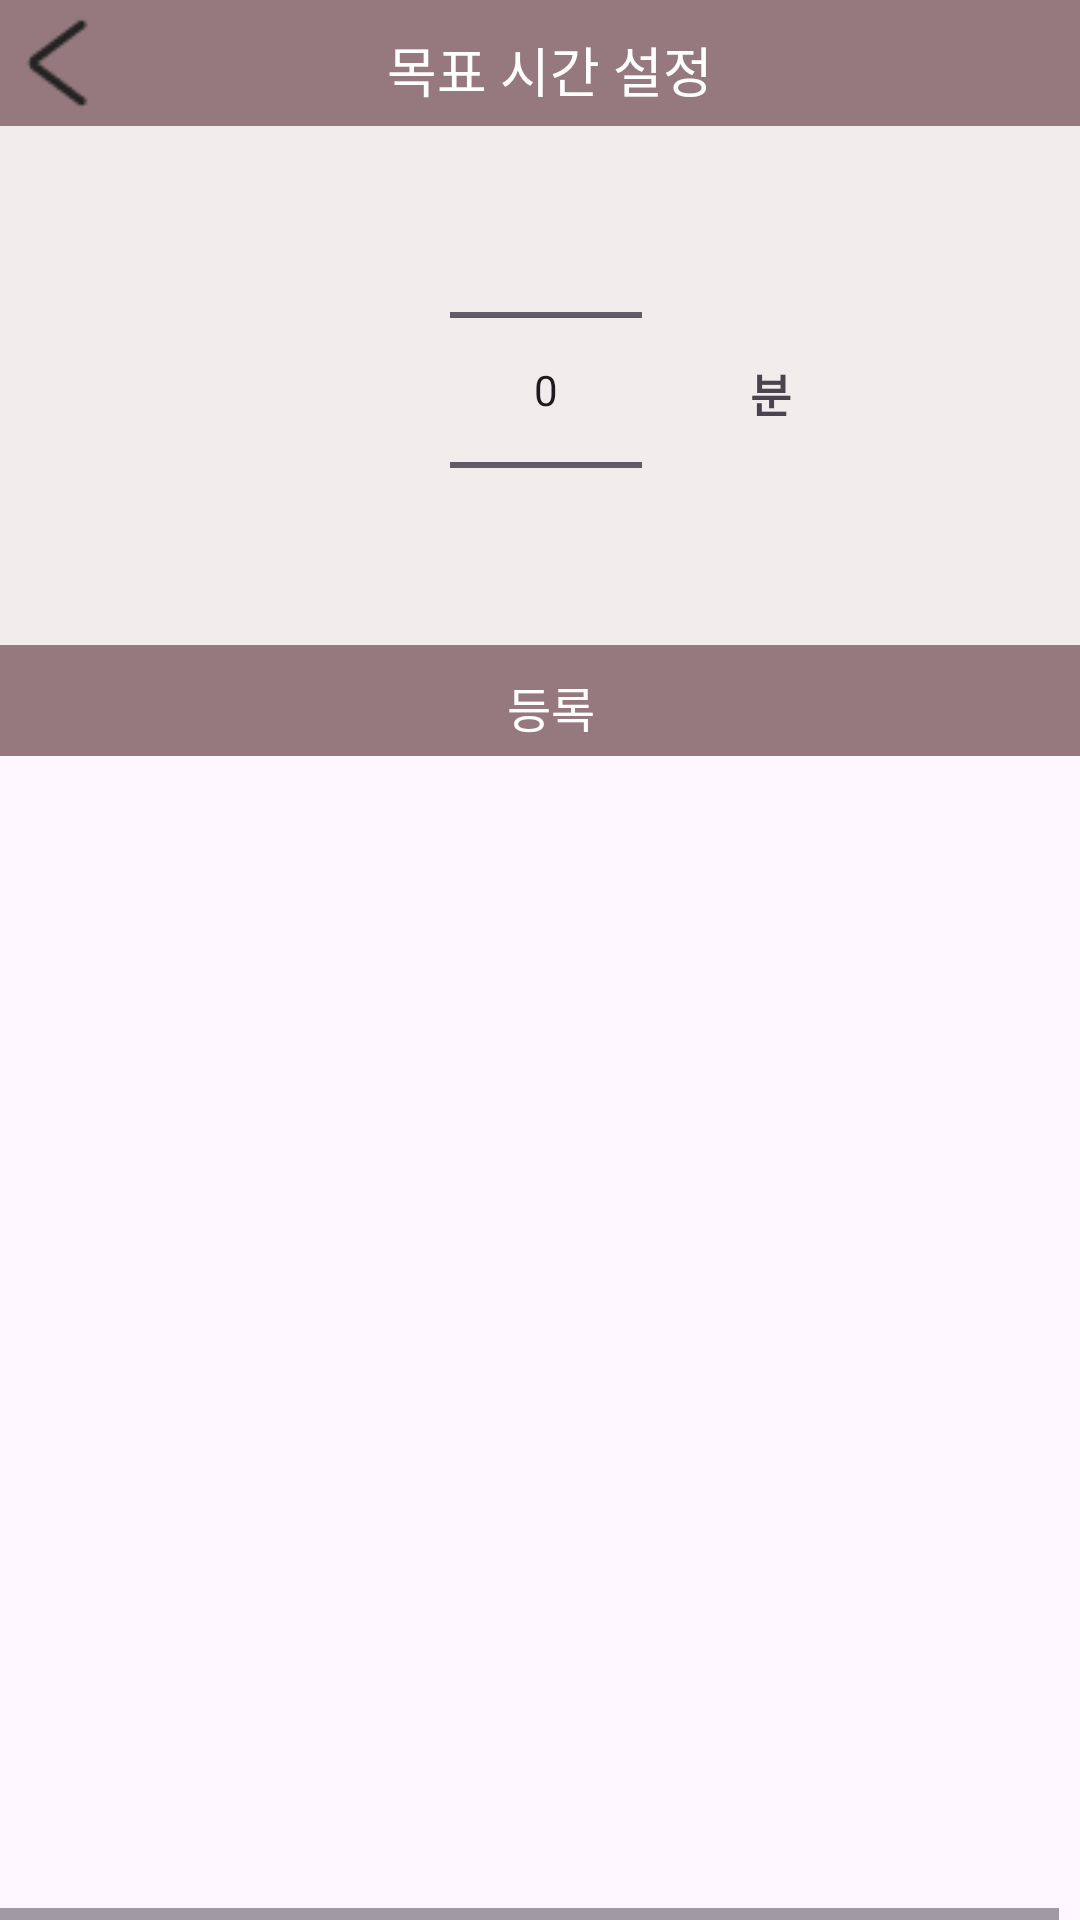

Locate icon controls on the screen. Image size 1080w x 1920h, boxes as [x1=x1, y1=y1, x2=x2, y2=y2].
back imagebutton: [x1=28, y1=20, x2=87, y2=106]
